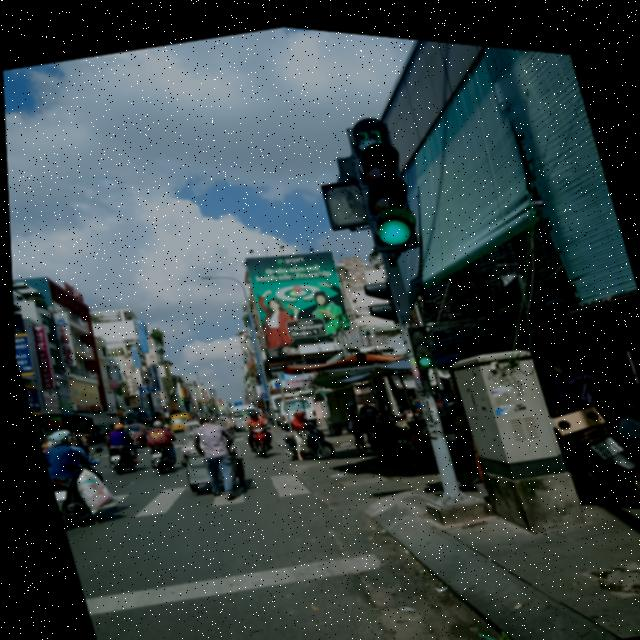Green: (345, 134, 428, 259)
